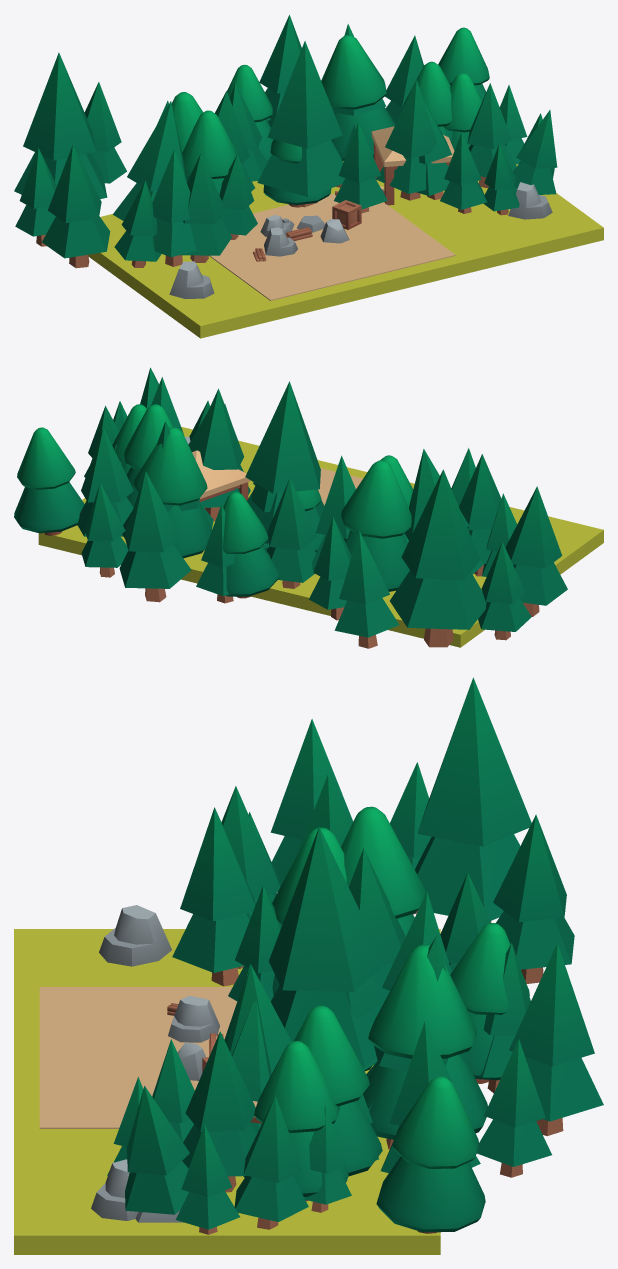
The model's file is camp.glb.
3 views of the same model, one above another, from view 1: azimuth 30°, elevation 25°; view 2: azimuth 150°, elevation 25°; view 3: azimuth 270°, elevation 25° (orthographic). The views are drawn at different scales.
Visible parts, largest first — view 1: static; view 2: static; view 3: static.
Boxes of the visible parts, left/top/right/bottom form: static: left=14, top=15, right=603, bottom=338; static: left=14, top=367, right=603, bottom=648; static: left=14, top=677, right=603, bottom=1254.
Bounding box in the file's own units: 20.09 × 7.13 × 13.83.
1 material, 1 textured.
